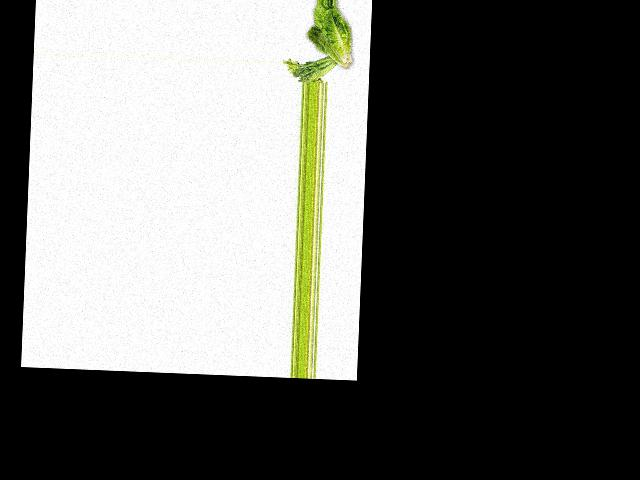lettuce: (300, 3, 352, 72)
